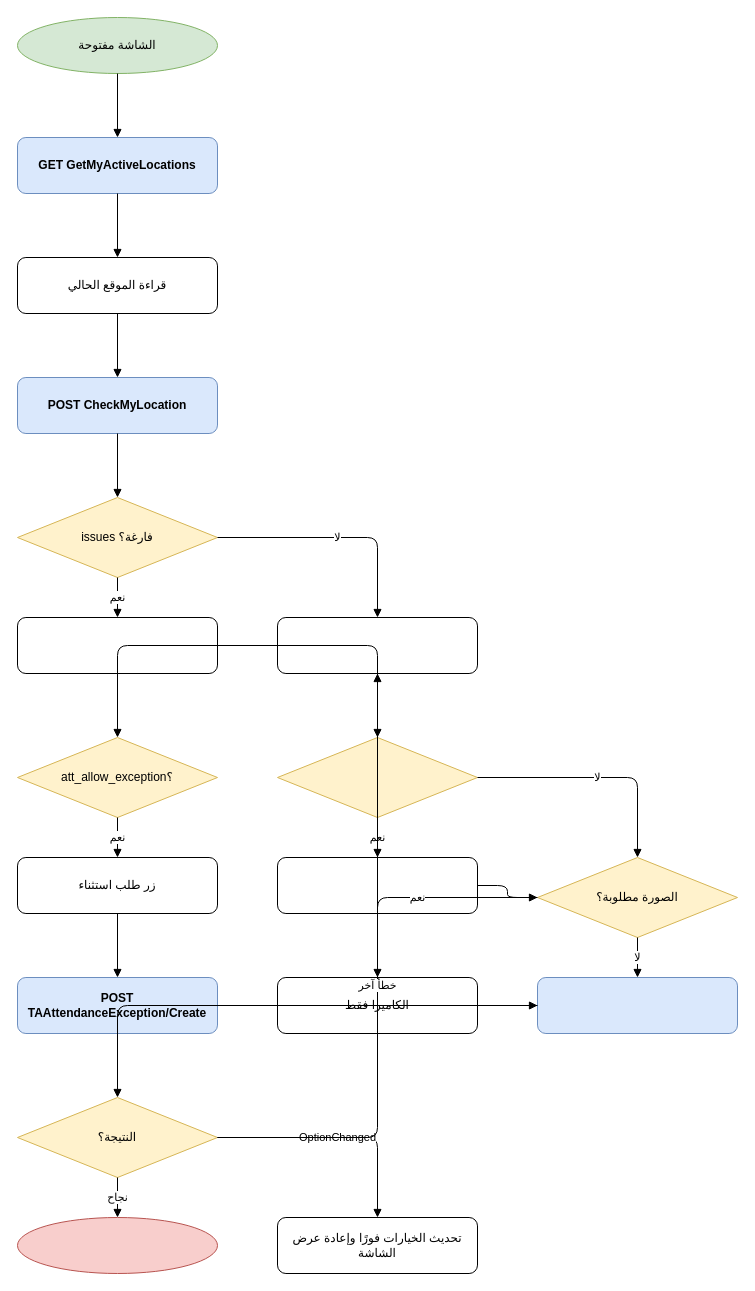
This 755x1291 diagram has some shape labels left out. Each missing label, with the box of its shape:
POST SubmitAttendance: (536, 976, 738, 1034)
البصمة مطلوبة؟: (276, 736, 478, 818)
بصمة الجوال: (276, 856, 478, 914)
تم التسجيل: (16, 1216, 218, 1274)
زر حضور / انصراف: (16, 616, 218, 674)
عرض المشكلة: (276, 616, 478, 674)
